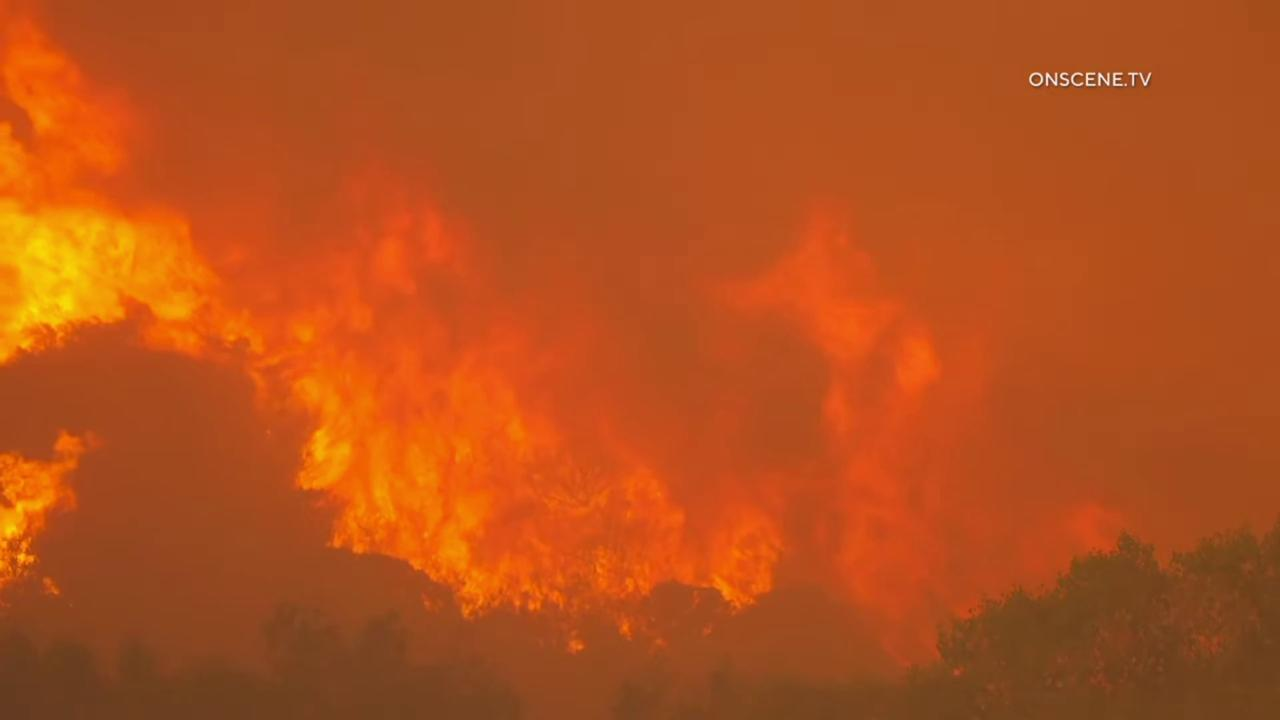fire: (0, 0, 956, 670), (0, 424, 111, 616)
smoke: (0, 0, 1280, 720)
